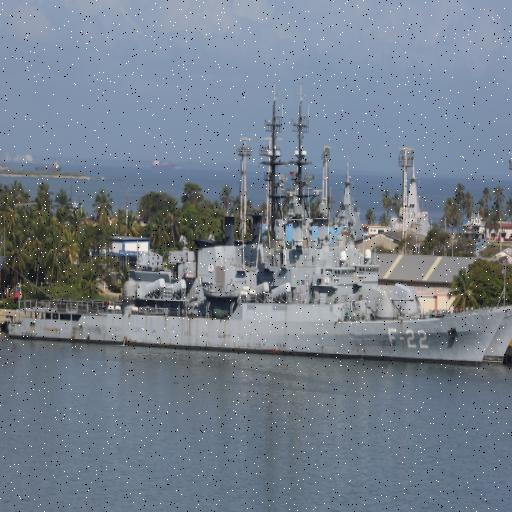Fragata: (2, 90, 511, 372)
